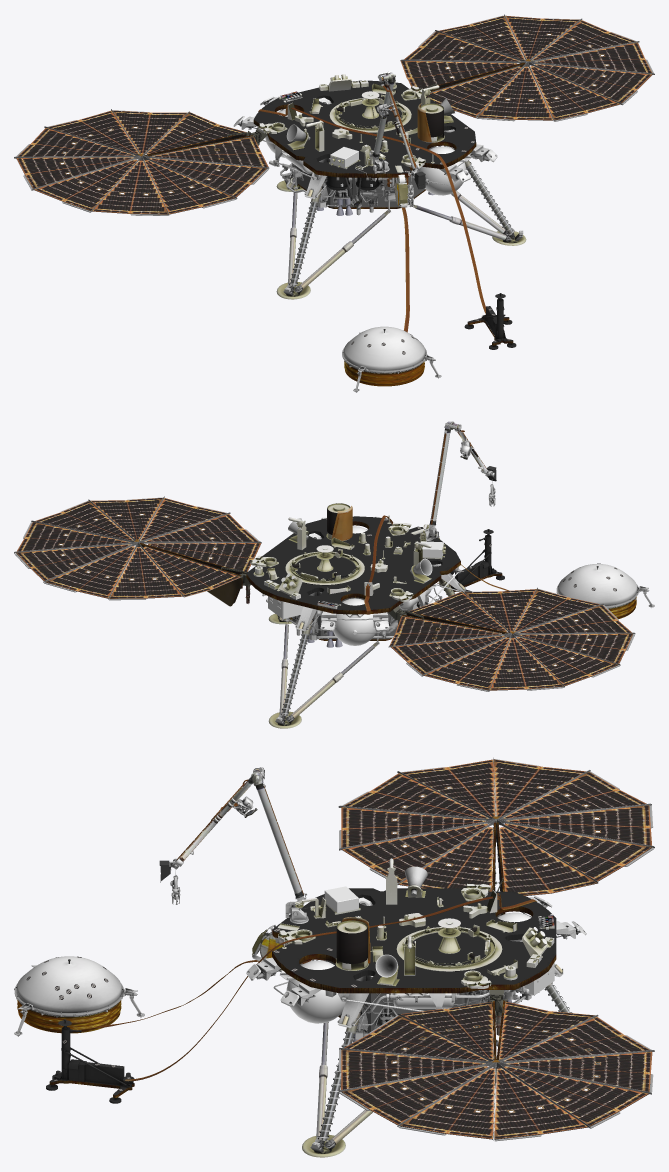
File: insight-lander.glb
The picture shows the model from 3 angles, top to bottom: view 1: azimuth 30°, elevation 25°; view 2: azimuth 150°, elevation 25°; view 3: azimuth 270°, elevation 25°; orthographic projection. The views are drawn at different scales.
Parts seen in each view (by area): view 1: InSight_Deployed, arm_02; view 2: InSight_Deployed, arm_02; view 3: InSight_Deployed, arm_02, arm_01.
Boxes of the visible parts, x1,y1,x2,y2 form: InSight_Deployed: [14, 14, 654, 392]; arm_02: [373, 73, 416, 170]; InSight_Deployed: [14, 421, 654, 728]; arm_02: [429, 421, 488, 525]; InSight_Deployed: [14, 757, 654, 1157]; arm_02: [176, 769, 303, 898]; arm_01: [159, 768, 307, 922].
Size of the model in its own units: 6.14 by 2.19 by 4.35.
Materials: 13 (11 with a texture image).
